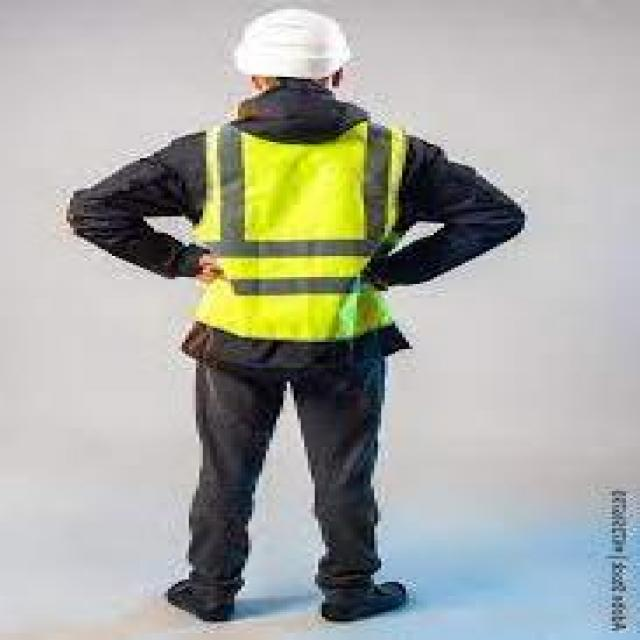Reflective-Jacket: (154, 116, 444, 356)
Safety-Helmet: (217, 5, 374, 93)
